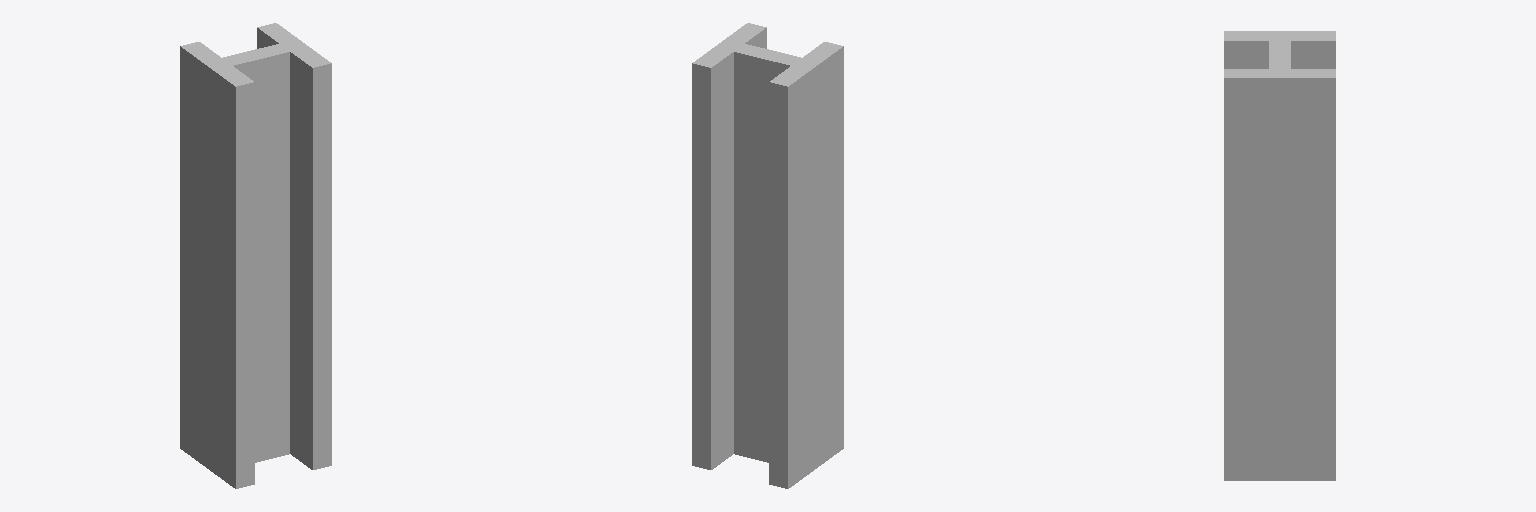
The model's file is I Bar.obj.
The picture shows the model from 3 angles: view 1: azimuth 30°, elevation 25°; view 2: azimuth 150°, elevation 25°; view 3: azimuth 270°, elevation 25°; orthographic projection.
Visible parts, largest first — view 1: object 1; view 2: object 1; view 3: object 1.
Boxes of the visible parts, x1,y1,x2,y2 form: object 1: [180, 23, 331, 488]; object 1: [692, 23, 843, 488]; object 1: [1224, 31, 1335, 480].
Bounding box in the file's own units: 2.5 × 10 × 2.5.